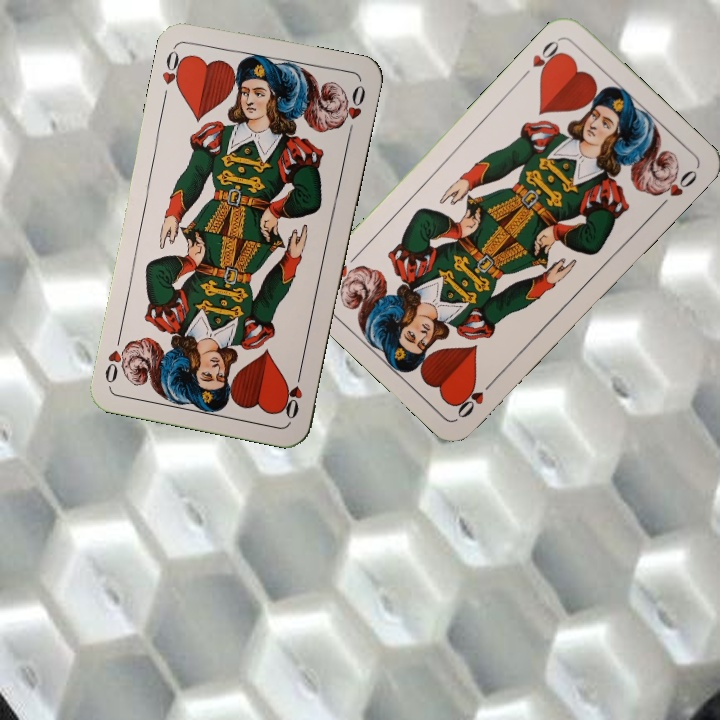HO: (516, 35, 566, 82), (452, 374, 499, 421), (157, 42, 189, 94), (279, 364, 305, 422)
